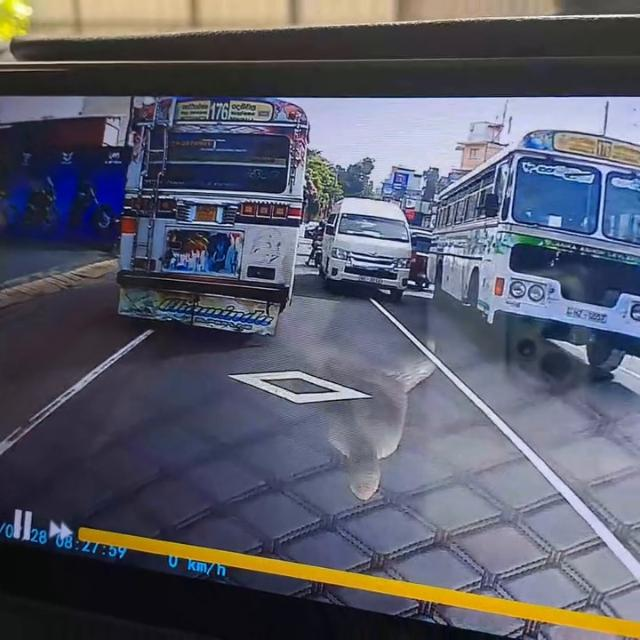illegal overtaking: (314, 179, 413, 300)
